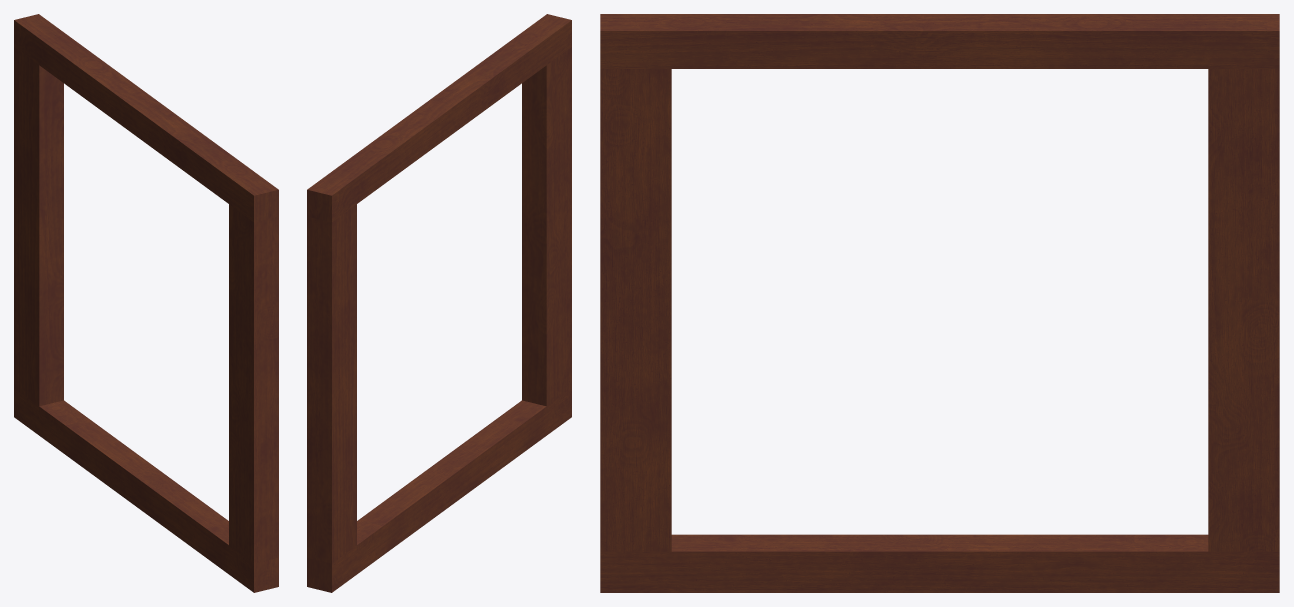
Rendered from SM_DoorFrame04A.fbx.
The picture shows the model from 3 angles, left to right: view 1: azimuth 30°, elevation 25°; view 2: azimuth 150°, elevation 25°; view 3: azimuth 270°, elevation 25°; orthographic projection. The views are drawn at different scales.
Parts seen in each view (by area): view 1: SM_DoorFrame04A; view 2: SM_DoorFrame04A; view 3: SM_DoorFrame04A.
Boxes of the visible parts, x1,y1,x2,y2 form: SM_DoorFrame04A: (14,14,278,592); SM_DoorFrame04A: (307,14,571,592); SM_DoorFrame04A: (600,14,1279,592).
Bounding box in the file's own units: 14.94 × 251 × 229.
1 material, 1 textured.
